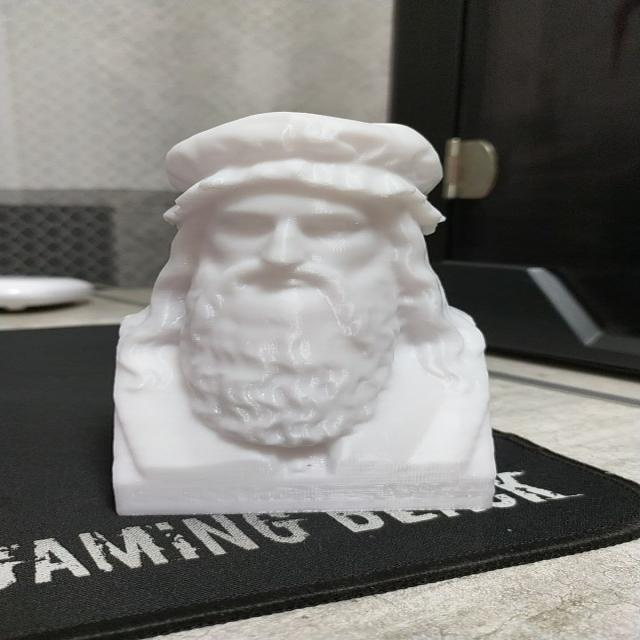Without deffect: (98, 102, 530, 523)
